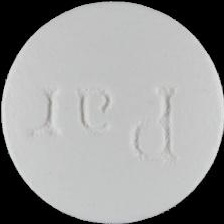49884-562: (0, 0, 224, 224)
